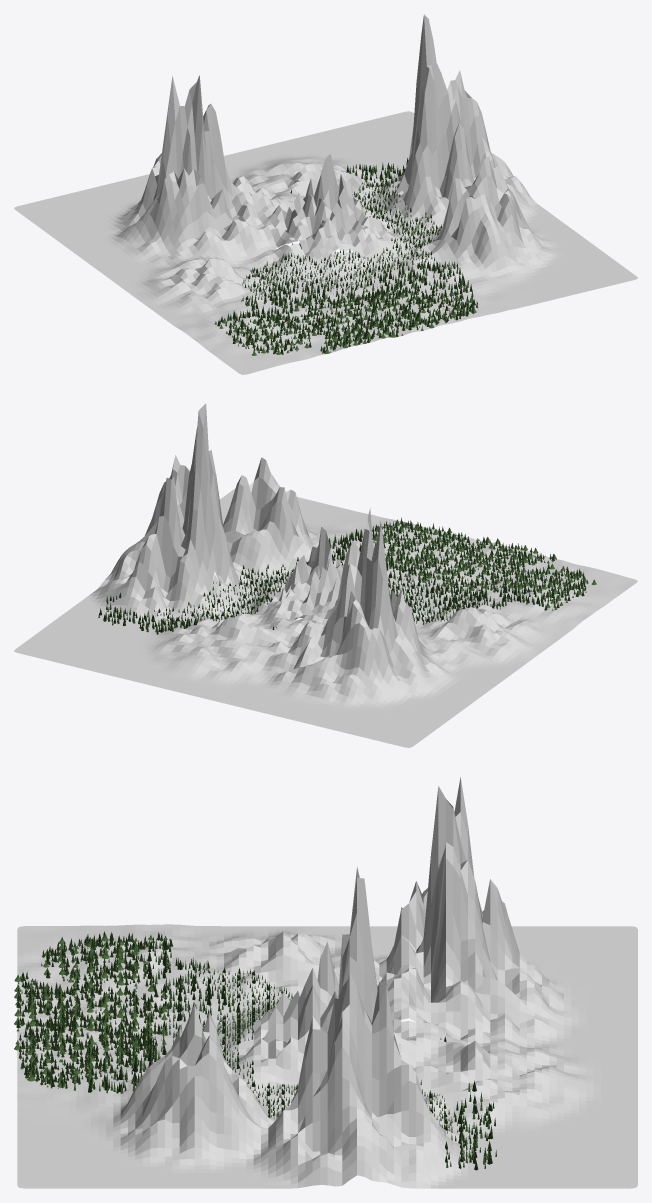
Rendered from BackgroundMenu_AppliedEffects_ConvertedPS_v2.fbx.
3 views of the same model, one above another, from view 1: azimuth 30°, elevation 25°; view 2: azimuth 150°, elevation 25°; view 3: azimuth 270°, elevation 25° (orthographic). The views are drawn at different scales.
Parts seen in each view (by area): view 1: Plane.000, Plane.001; view 2: Plane.000, Plane.001; view 3: Plane.000, Plane.001.
Boxes of the visible parts, x1,y1,x2,y2 form: Plane.000: (14, 111, 637, 374); Plane.001: (109, 14, 546, 308); Plane.000: (14, 488, 637, 747); Plane.001: (98, 403, 520, 709); Plane.000: (17, 924, 637, 1188); Plane.001: (106, 777, 578, 1188).
Bounding box in the file's own units: 1400 × 663 × 1407.
